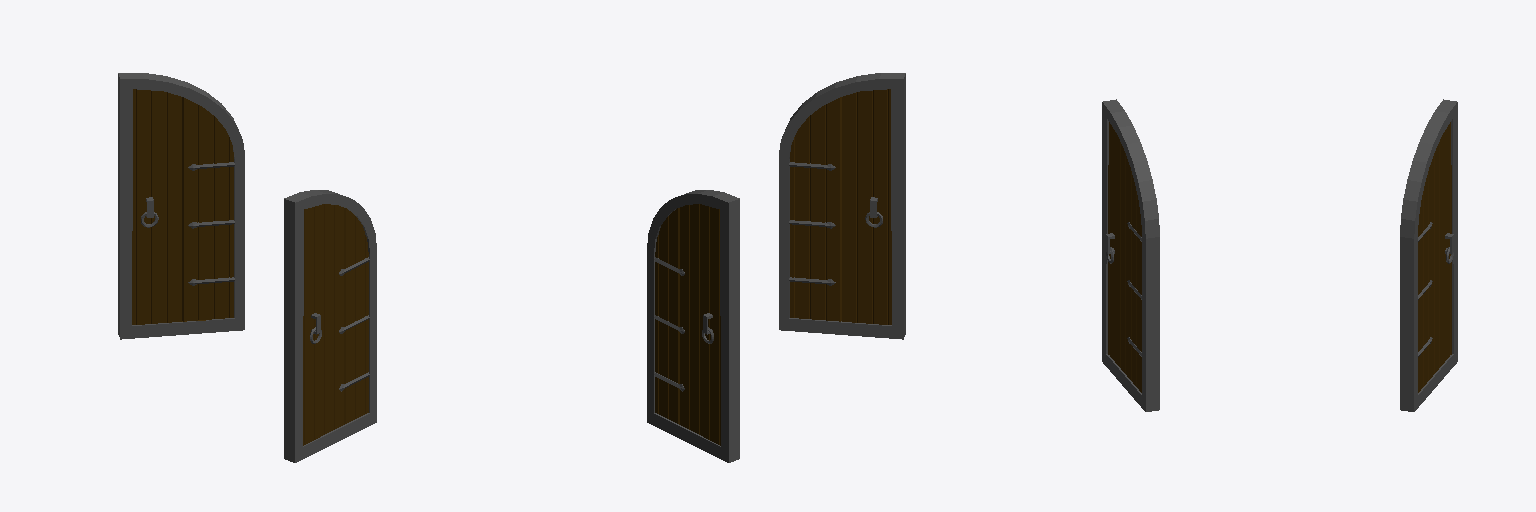
3 renders of one model, left to right at view 1: azimuth 30°, elevation 25°; view 2: azimuth 150°, elevation 25°; view 3: azimuth 270°, elevation 25°, orthographic.
Visible parts, largest first — view 1: ドア2_ドア2_立方体.002; view 2: ドア2_ドア2_立方体.002; view 3: ドア2_ドア2_立方体.002.
Part boxes in pixels (x1,y1,x2,y2): ドア2_ドア2_立方体.002: (118, 73, 376, 462); ドア2_ドア2_立方体.002: (647, 73, 905, 462); ドア2_ドア2_立方体.002: (1102, 99, 1457, 411).
Size of the model in its own units: 1.3 by 3 by 3.71.
Materials: 1 (1 with a texture image).